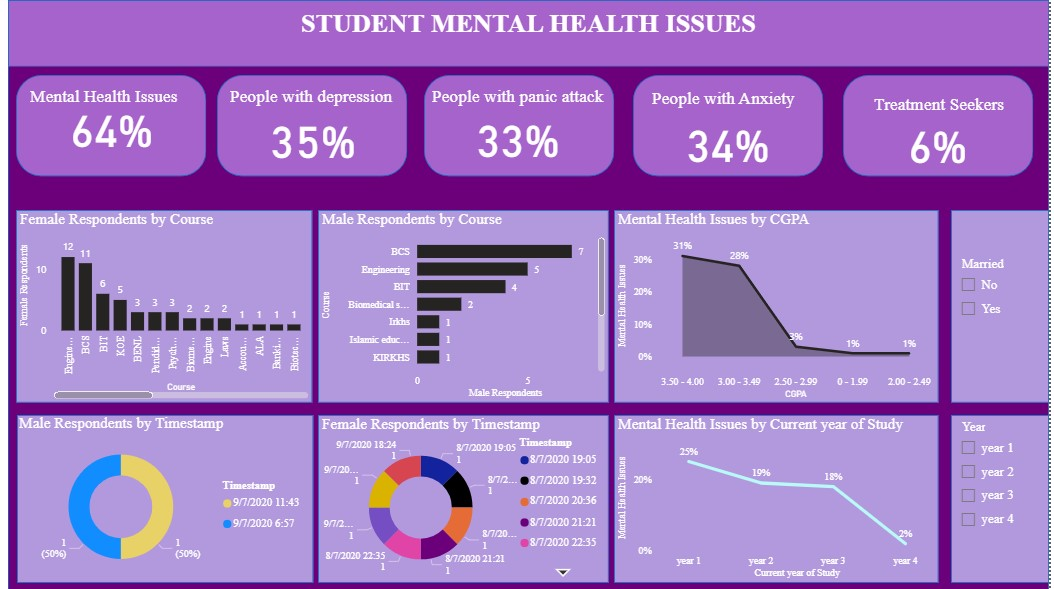

The page's visual inventory and layout, read from the dashboard file:
{"tool":"powerbi","page":{"name":"Page 1","canvas":[1280,720],"ordinal":0},"visuals":[{"type":"shape","box":[9.6,0,1270.4,720.4],"z":1000},{"type":"shape","box":[9.3,0,1270.7,81.3],"z":1500},{"type":"shape","box":[265.3,92.1,232.4,123.7],"z":2000},{"type":"shape","box":[19.2,92.1,232.4,123.7],"z":3000},{"type":"shape","box":[516.9,92.1,232.4,123.7],"z":4000},{"type":"shape","box":[772.7,92.1,232.4,123.7],"z":5000},{"type":"shape","box":[1028.4,92.1,232.4,123.7],"z":6000},{"type":"card","fields":{"Values":["Student Mental health.TotalMentalHealthIssues"]},"box":[20.6,92.1,231,123.7],"z":7000},{"type":"textbox","box":[31.6,100.4,207.6,53.6],"z":8000},{"type":"card","fields":{"Values":["Student Mental health.PercentageDepression"]},"box":[288.7,116.9,185.6,99],"z":9000},{"type":"textbox","box":[276.3,100.4,221.4,53.6],"z":10000},{"type":"card","fields":{"Values":["Student Mental health.PercentagePanicAttacks"]},"box":[522.4,110,220,111.4],"z":11000},{"type":"textbox","box":[522.4,100.4,220,56.4],"z":12000},{"type":"card","fields":{"Values":["Student Mental health.PercentageAnxiety"]},"box":[772.7,127.9,232.4,88],"z":13000},{"type":"textbox","box":[790.5,103.1,199.4,53.6],"z":14000},{"type":"card","fields":{"Values":["Student Mental health.SpecialistTreatmentSeekers"]},"box":[1044.9,129.2,199.4,86.6],"z":15000},{"type":"textbox","box":[1061.4,110,199.4,71.5],"z":16000},{"type":"shape","box":[19.2,255.7,361.6,235.1],"z":17000},{"type":"columnChart","fields":{"Category":["Student Mental health.What is your course?"],"Y":["Student Mental health.FemaleRespondents"]},"box":[19.2,255.7,361.6,235.1],"z":18000},{"type":"shape","box":[20.6,506,361.6,204.9],"z":19000},{"type":"donutChart","fields":{"Series":["Student Mental health.Timestamp"],"Y":["Student Mental health.MaleRespondents"]},"box":[18.7,505.3,361.3,205.3],"z":20000},{"type":"shape","box":[387.7,255.7,354.7,235.1],"z":21000},{"type":"shape","box":[387.7,506,354.7,204.9],"z":22000},{"type":"shape","box":[749.3,506,396,204.9],"z":23000},{"type":"shape","box":[749.3,255.7,396,235.1],"z":24000},{"type":"barChart","fields":{"Y":["Student Mental health.MaleRespondents"],"Category":["Student Mental health.What is your course?"]},"box":[387.7,255.7,354.7,235.1],"z":25000},{"type":"donutChart","fields":{"Category":["Student Mental health.Timestamp"],"Y":["Student Mental health.FemaleRespondents"]},"box":[387.7,506,354.7,204.9],"z":26000},{"type":"stackedAreaChart","fields":{"Category":["Student Mental health.What is your CGPA?"],"Y":["Student Mental health.TotalMentalHealthIssues"]},"box":[749.3,255.7,396,235.1],"z":27000},{"type":"lineChart","fields":{"Y":["Student Mental health.TotalMentalHealthIssues"],"Category":["Student Mental health.Your current year of Study"]},"box":[749.3,506,396,204.9],"z":28000},{"type":"shape","box":[1160.4,255.7,119.6,235.1],"z":29000},{"type":"shape","box":[1160.4,506,119.6,204.9],"z":30000},{"type":"slicer","fields":{"Values":["Student Mental health.Your current year of Study"]},"box":[1160.4,506,119.6,204.9],"z":31000},{"type":"slicer","fields":{"Values":["Student Mental health.Marital status"]},"box":[1160.4,255.7,119.6,235.1],"z":32000},{"type":"textbox","box":[250.7,5.3,789.3,70.7],"z":33500}]}

Visuals, with their boxes in screenshot pixels (x1, y1, x2, y2), scaled from the page's 1280x720 canvas onto the 1054x589 screenshot:
shape: (8, 0, 1053, 588)
shape: (8, 0, 1053, 67)
shape: (218, 75, 410, 177)
shape: (16, 75, 207, 177)
shape: (426, 75, 617, 177)
shape: (636, 75, 828, 177)
shape: (847, 75, 1038, 177)
card - Student Mental health.TotalMentalHealthIssues: (17, 75, 207, 177)
textbox: (26, 82, 197, 126)
card - Student Mental health.PercentageDepression: (238, 96, 391, 177)
textbox: (228, 82, 410, 126)
card - Student Mental health.PercentagePanicAttacks: (430, 90, 611, 181)
textbox: (430, 82, 611, 128)
card - Student Mental health.PercentageAnxiety: (636, 105, 828, 177)
textbox: (651, 84, 815, 128)
card - Student Mental health.SpecialistTreatmentSeekers: (860, 106, 1025, 177)
textbox: (874, 90, 1038, 148)
shape: (16, 209, 314, 402)
columnChart - Student Mental health.What is your course? x Student Mental health.FemaleRespondents: (16, 209, 314, 402)
shape: (17, 414, 315, 582)
donutChart - Student Mental health.Timestamp x Student Mental health.MaleRespondents: (15, 413, 313, 581)
shape: (319, 209, 611, 402)
shape: (319, 414, 611, 582)
shape: (617, 414, 943, 582)
shape: (617, 209, 943, 402)
barChart - Student Mental health.MaleRespondents x Student Mental health.What is your course?: (319, 209, 611, 402)
donutChart - Student Mental health.Timestamp x Student Mental health.FemaleRespondents: (319, 414, 611, 582)
stackedAreaChart - Student Mental health.What is your CGPA? x Student Mental health.TotalMentalHealthIssues: (617, 209, 943, 402)
lineChart - Student Mental health.TotalMentalHealthIssues x Student Mental health.Your current year of Study: (617, 414, 943, 582)
shape: (956, 209, 1053, 402)
shape: (956, 414, 1053, 582)
slicer - Student Mental health.Your current year of Study: (956, 414, 1053, 582)
slicer - Student Mental health.Marital status: (956, 209, 1053, 402)
textbox: (206, 4, 856, 62)
